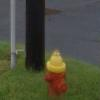Hydrant: (39, 42, 71, 100)
